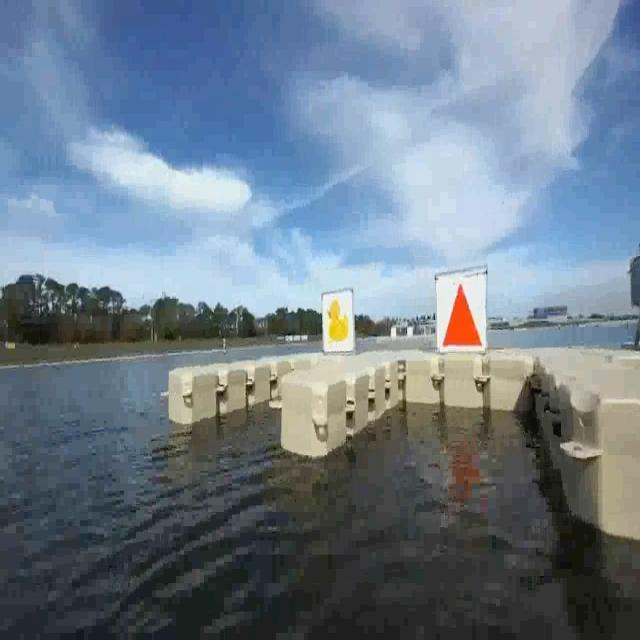red-dot: (440, 284, 485, 346)
yellow-duck: (323, 289, 352, 348)
